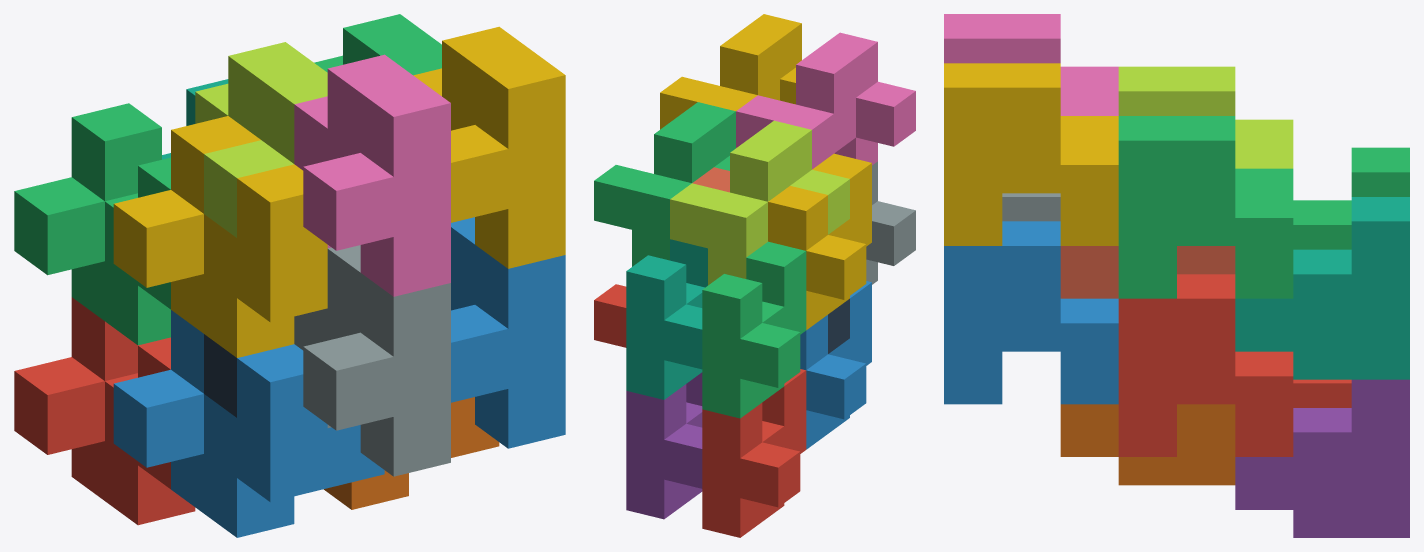
File: tiling.obj
3 views of the same model, side by side, from view 1: azimuth 30°, elevation 25°; view 2: azimuth 150°, elevation 25°; view 3: azimuth 270°, elevation 25° (orthographic). The views are drawn at different scales.
Parts seen in each view (by area): view 1: copy_1_domain_2, copy_1_domain_4, copy_2_domain_4, copy_2_domain_2, copy_2_domain_8, copy_1_domain_3, copy_2_domain_6, copy_1_domain_1, copy_2_domain_3, copy_2_domain_7, copy_1_domain_6, copy_2_domain_1; view 2: copy_1_domain_3, copy_2_domain_3, copy_2_domain_4, copy_1_domain_1, copy_1_domain_7, copy_2_domain_7, copy_1_domain_4, copy_1_domain_5, copy_2_domain_8, copy_1_domain_2, copy_2_domain_2, copy_2_domain_5 (+2 smaller); view 3: copy_2_domain_7, copy_2_domain_8, copy_2_domain_5, copy_2_domain_6, copy_1_domain_7, copy_1_domain_5, copy_1_domain_6, copy_2_domain_3, copy_2_domain_4, copy_1_domain_3, copy_1_domain_8, copy_1_domain_1 (+1 smaller).
Boxes of the visible parts, x1=… form: copy_1_domain_2: x1=113, y1=310, x2=384, y2=537; copy_1_domain_4: x1=113, y1=116, x2=327, y2=357; copy_2_domain_4: x1=294, y1=54, x2=450, y2=296; copy_2_domain_2: x1=294, y1=245, x2=450, y2=476; copy_2_domain_8: x1=413, y1=26, x2=565, y2=268; copy_1_domain_3: x1=14, y1=103, x2=170, y2=345; copy_2_domain_6: x1=451, y1=217, x2=565, y2=448; copy_1_domain_1: x1=14, y1=297, x2=195, y2=525; copy_2_domain_3: x1=195, y1=42, x2=327, y2=237; copy_2_domain_7: x1=314, y1=14, x2=441, y2=75; copy_1_domain_6: x1=324, y1=397, x2=499, y2=509; copy_2_domain_1: x1=204, y1=334, x2=236, y2=417; copy_1_domain_3: x1=702, y1=241, x2=806, y2=418; copy_2_domain_3: x1=670, y1=120, x2=849, y2=285; copy_2_domain_4: x1=736, y1=32, x2=915, y2=169; copy_1_domain_1: x1=702, y1=369, x2=806, y2=537; copy_1_domain_7: x1=626, y1=239, x2=707, y2=399; copy_2_domain_7: x1=594, y1=102, x2=735, y2=266; copy_1_domain_4: x1=768, y1=153, x2=871, y2=329; copy_1_domain_5: x1=626, y1=372, x2=702, y2=519; copy_2_domain_8: x1=660, y1=14, x2=801, y2=129; copy_1_domain_2: x1=800, y1=281, x2=871, y2=449; copy_2_domain_2: x1=866, y1=161, x2=915, y2=284; copy_2_domain_5: x1=594, y1=284, x2=626, y2=347; copy_2_domain_7: x1=1118, y1=116, x2=1293, y2=298; copy_2_domain_8: x1=944, y1=63, x2=1118, y2=245; copy_2_domain_5: x1=1118, y1=274, x2=1293, y2=456; copy_2_domain_6: x1=944, y1=221, x2=1118, y2=404; copy_1_domain_7: x1=1235, y1=197, x2=1409, y2=379; copy_1_domain_5: x1=1235, y1=379, x2=1409, y2=537; copy_1_domain_6: x1=1060, y1=404, x2=1235, y2=485; copy_2_domain_3: x1=1118, y1=66, x2=1293, y2=168; copy_2_domain_4: x1=944, y1=14, x2=1118, y2=115; copy_1_domain_3: x1=1293, y1=147, x2=1409, y2=249; copy_1_domain_8: x1=1060, y1=246, x2=1235, y2=298; copy_1_domain_1: x1=1293, y1=379, x2=1351, y2=407.
Bounding box in the file's own units: 6 × 9 × 8.
